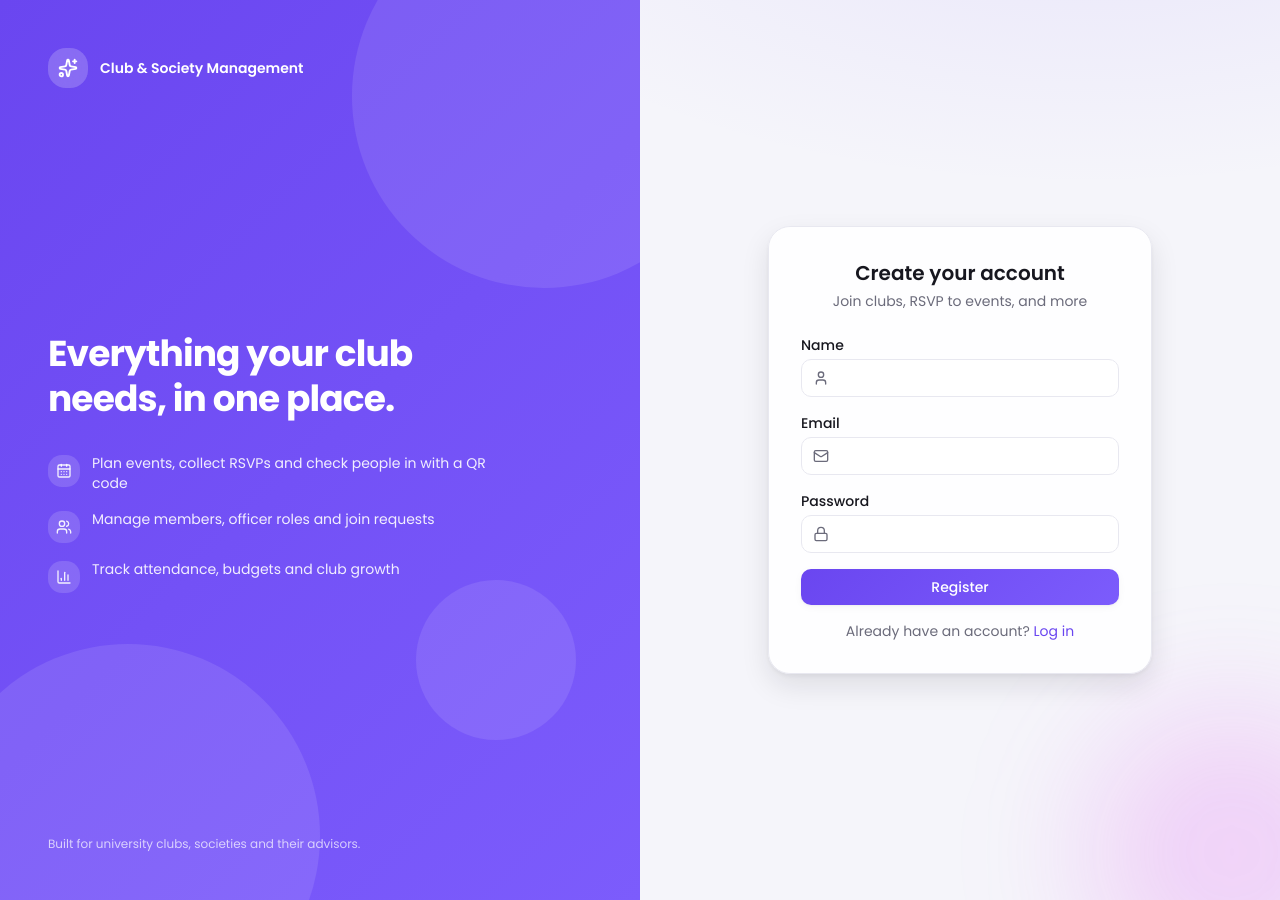
Scenario: RegisterPage › shows a neutral check-your-email screen when the server issues no session
Type "Ada" into the field labelled "Name" at [960, 378], box [801,359,1119,397]
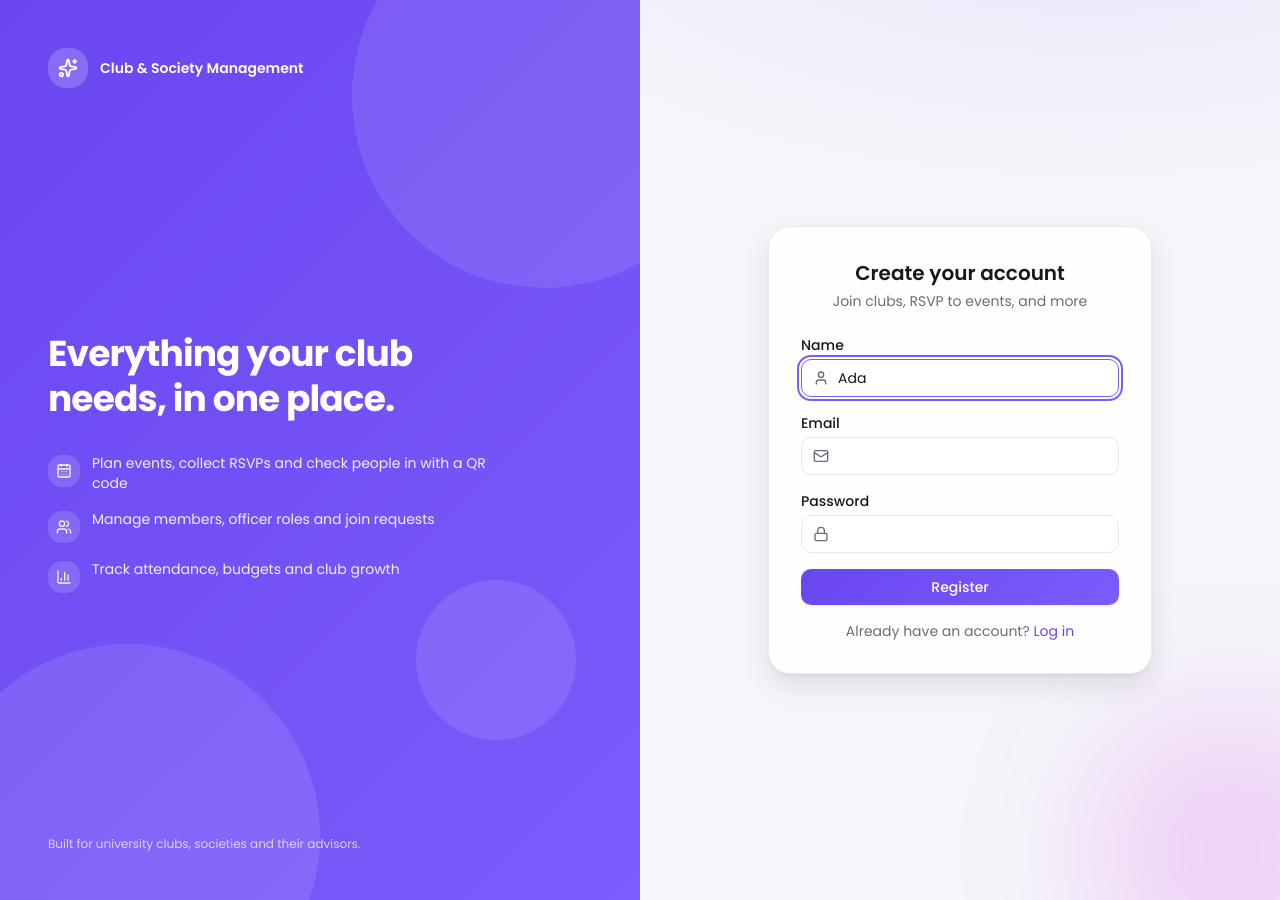
Type "ada@example.com" into the field labelled "Email" at [960, 456], box [801,437,1119,475]
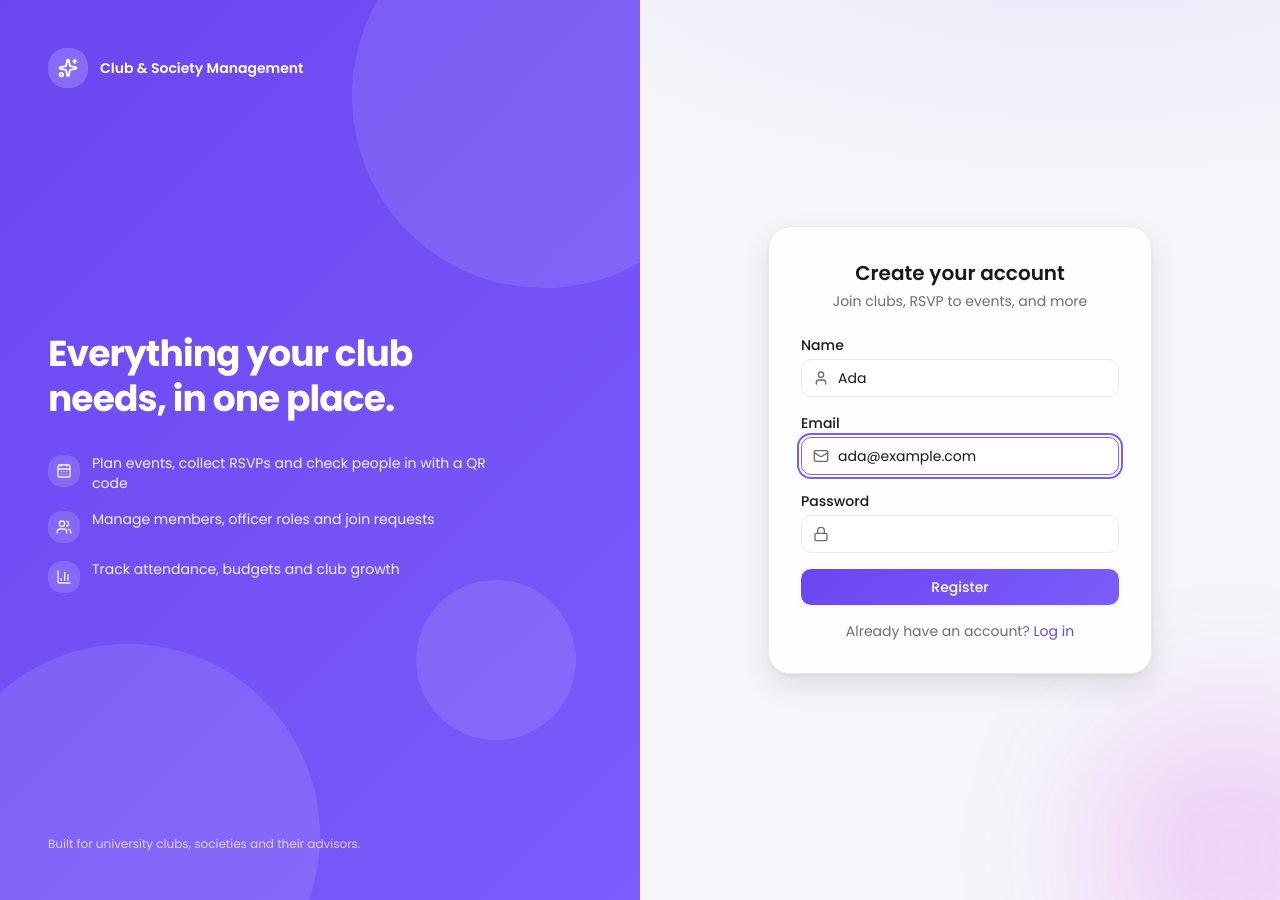
Type "password123" into the password field labelled "Password" at [960, 534], box [801,515,1119,553]
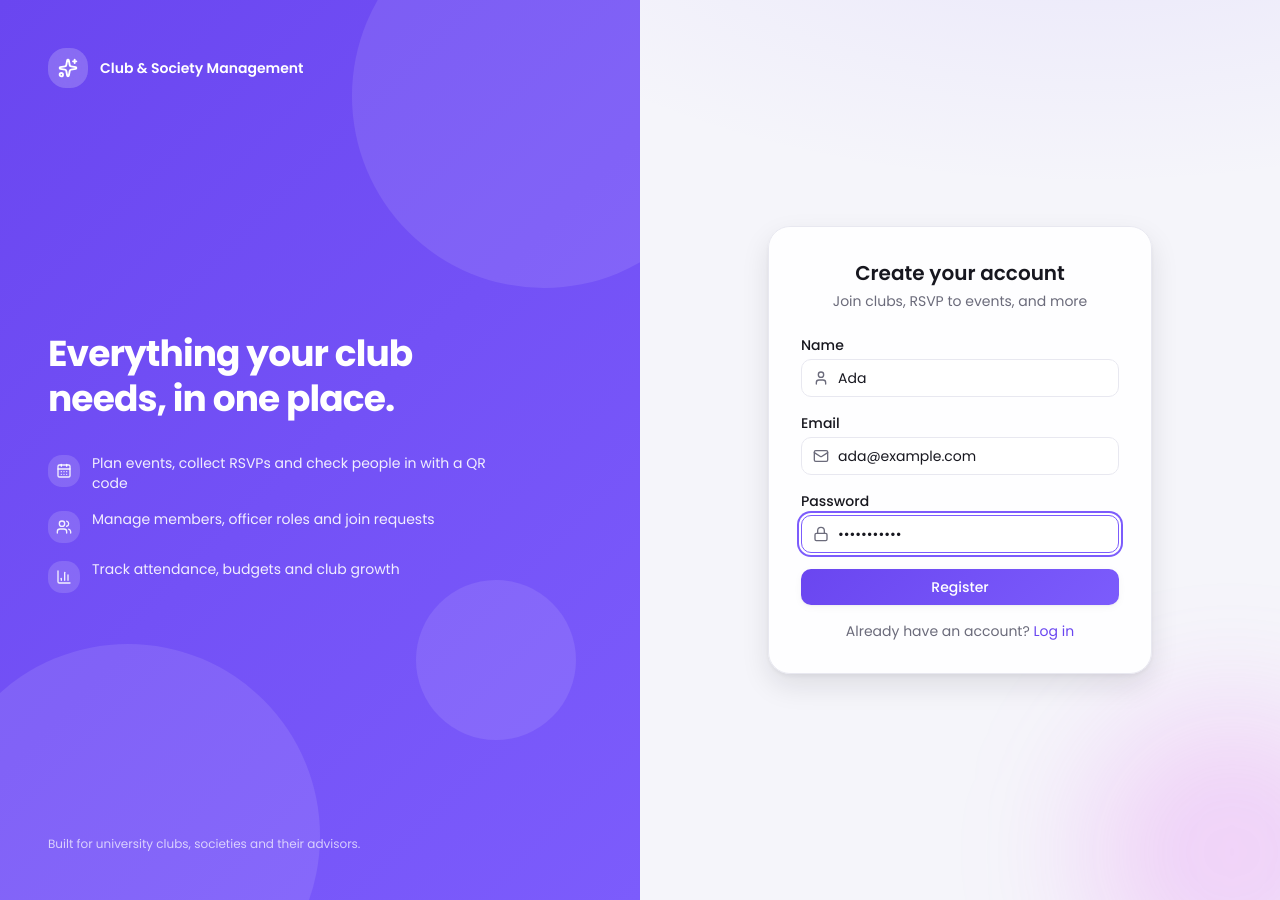
Click the button "Register" at [960, 587], box [801,569,1119,605]
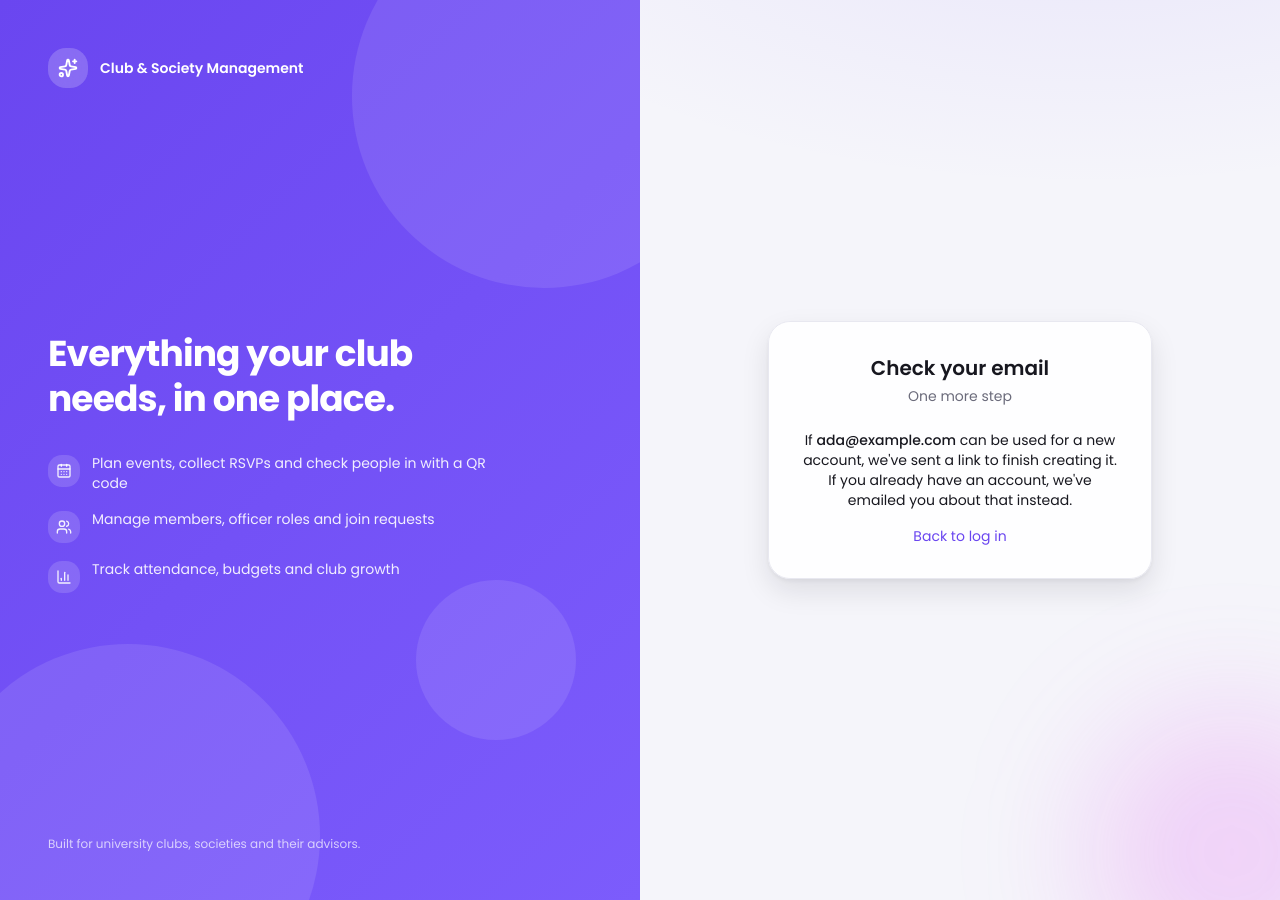
Check: the heading "Check your email" is shown, box [871,354,1049,382]
Check: the text "if you already have an account" is shown, box [803,430,1117,510]
